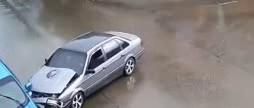car-accident: (0, 29, 150, 107)
